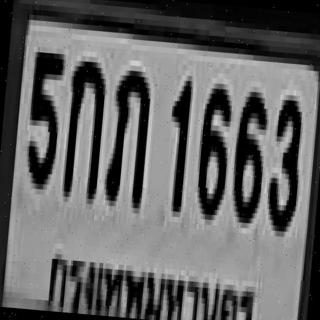A01: (59, 55, 106, 199)
A32: (103, 64, 151, 203)
N01: (162, 74, 190, 206)
N03: (263, 89, 304, 227)
N05: (22, 46, 63, 185)
N06: (228, 85, 268, 218), (194, 77, 232, 216)
P04: (41, 236, 261, 320)
